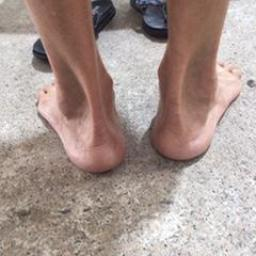Back View -Both Feet-: (27, 20, 246, 184)
